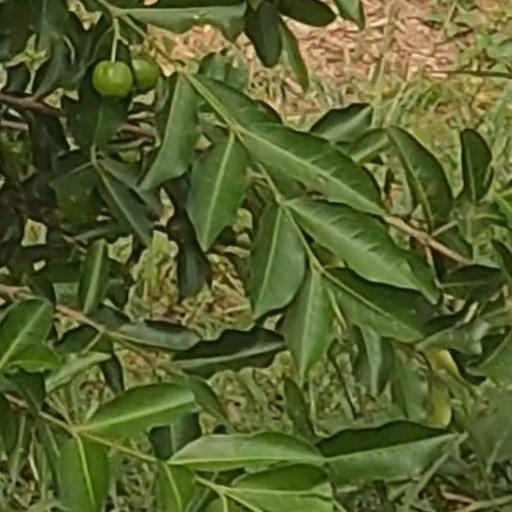acerola: (95, 62, 132, 99), (132, 55, 160, 92)
